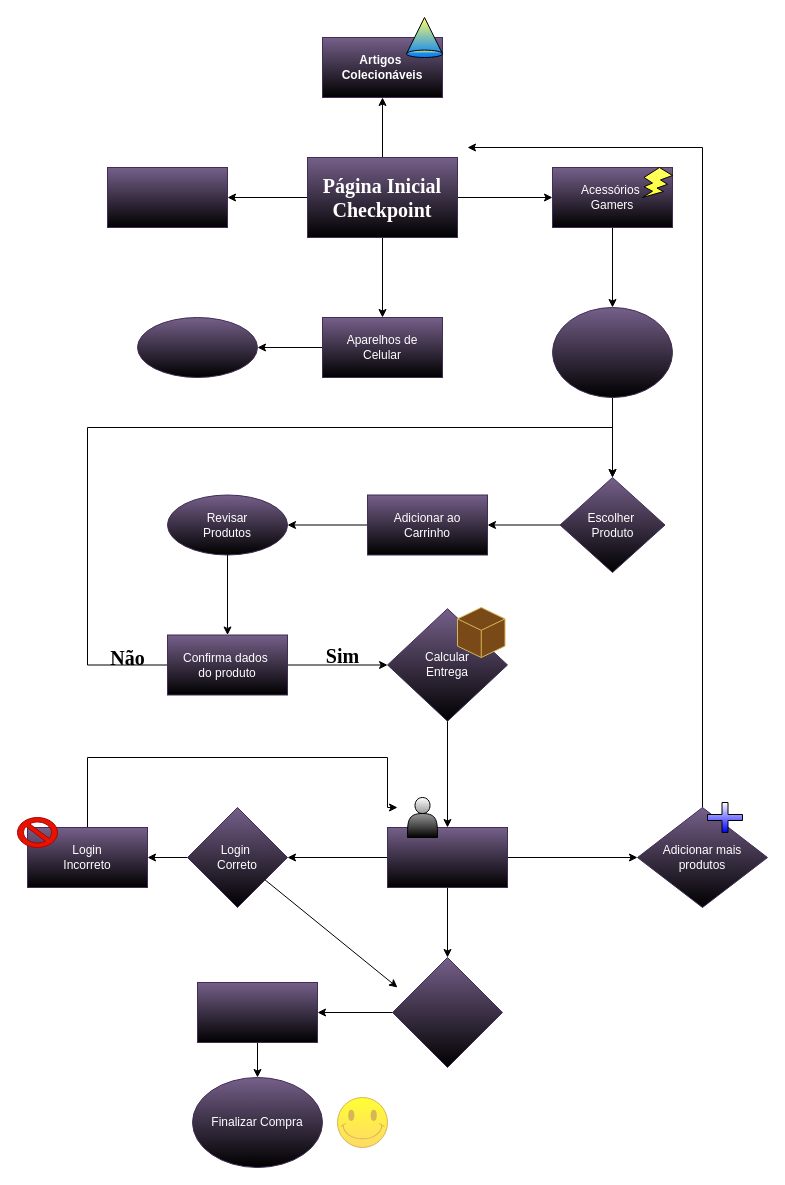
This 785x1185 diagram has some shape labels left out. Each missing label, with the box of its shape:
Acessórios de Celular: (136, 316, 258, 378)
Avaliação de Clientes: (106, 166, 228, 228)
Cadeira Mouse sem fio Fone Teclado: (552, 306, 672, 398)
Confirmar dados: (392, 956, 502, 1068)
Escolher formas de pagamento: (196, 982, 318, 1042)
Identificação: (386, 826, 508, 888)
